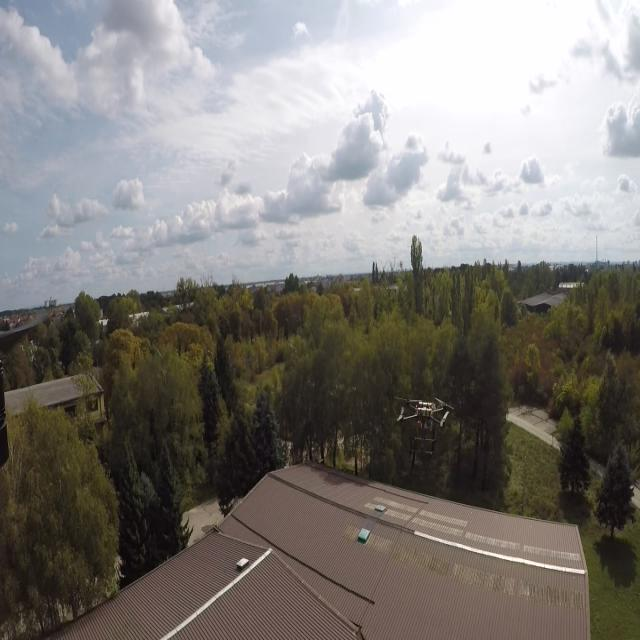UAV: (390, 389, 456, 458)
